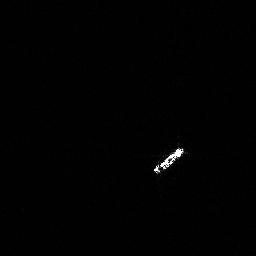ship: (151, 143, 186, 176)
